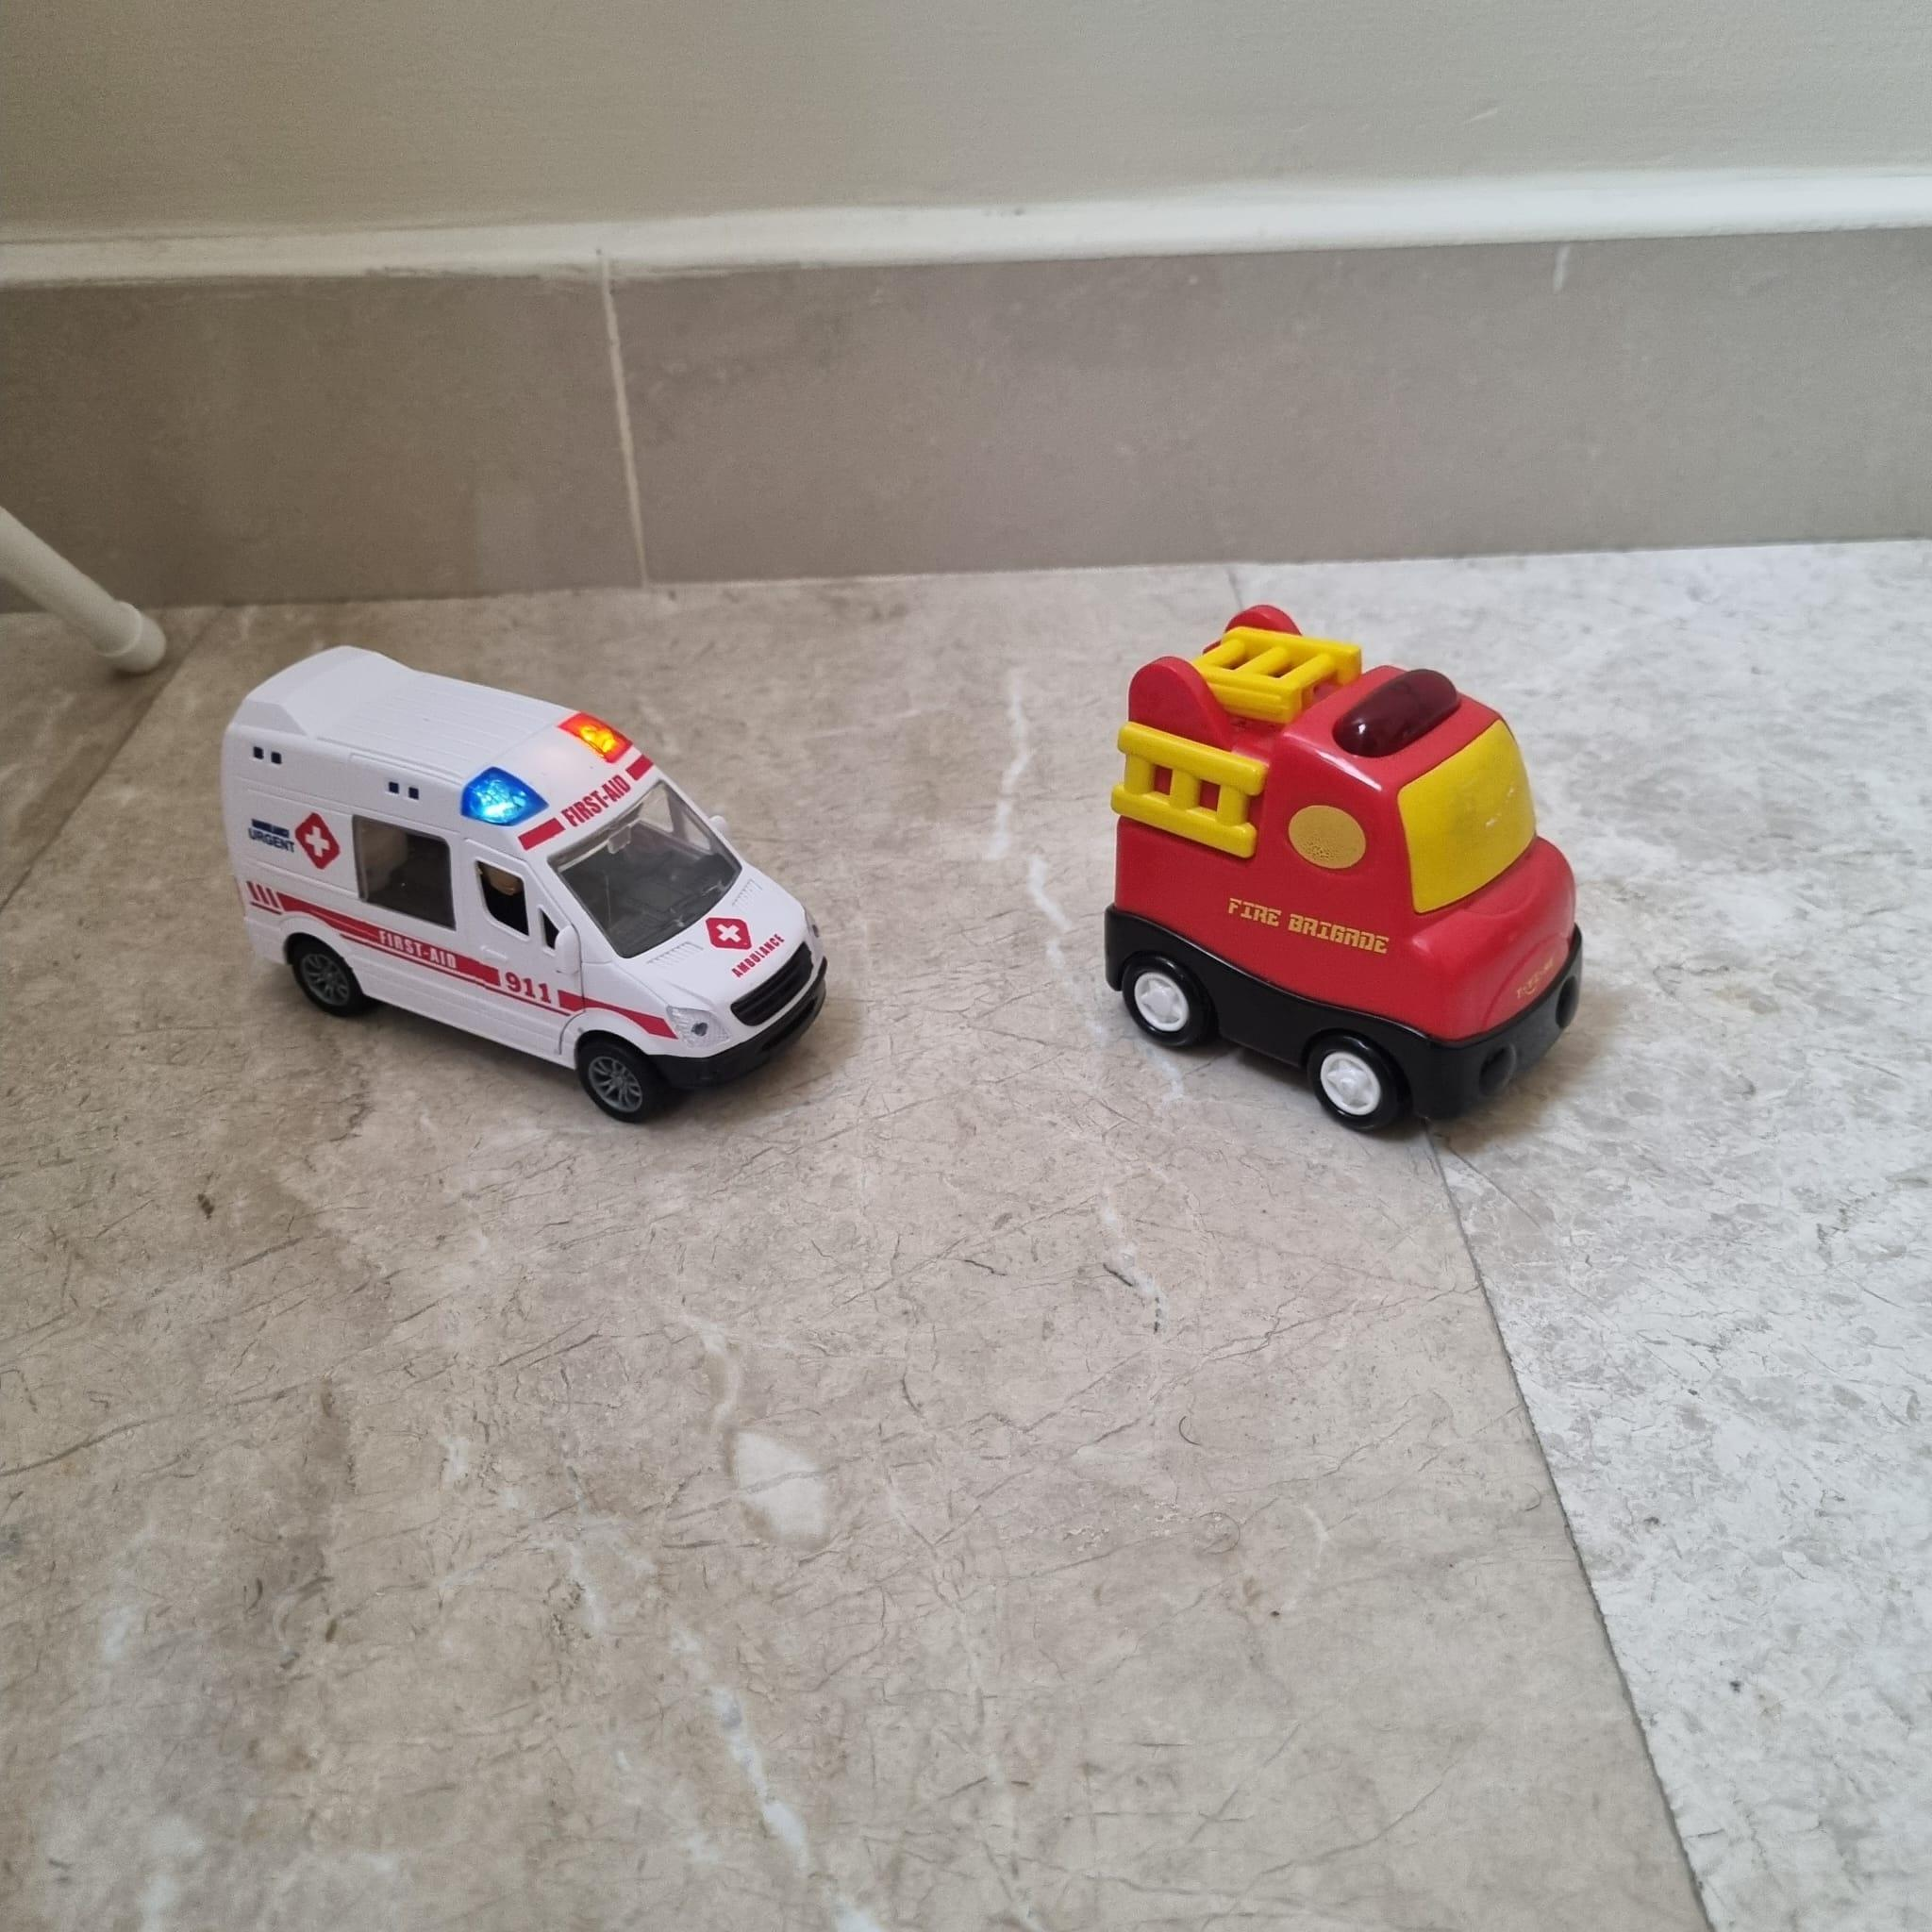ambulance_on: (225, 642, 826, 1125)
firetruck_off: (1100, 596, 1585, 1134)
